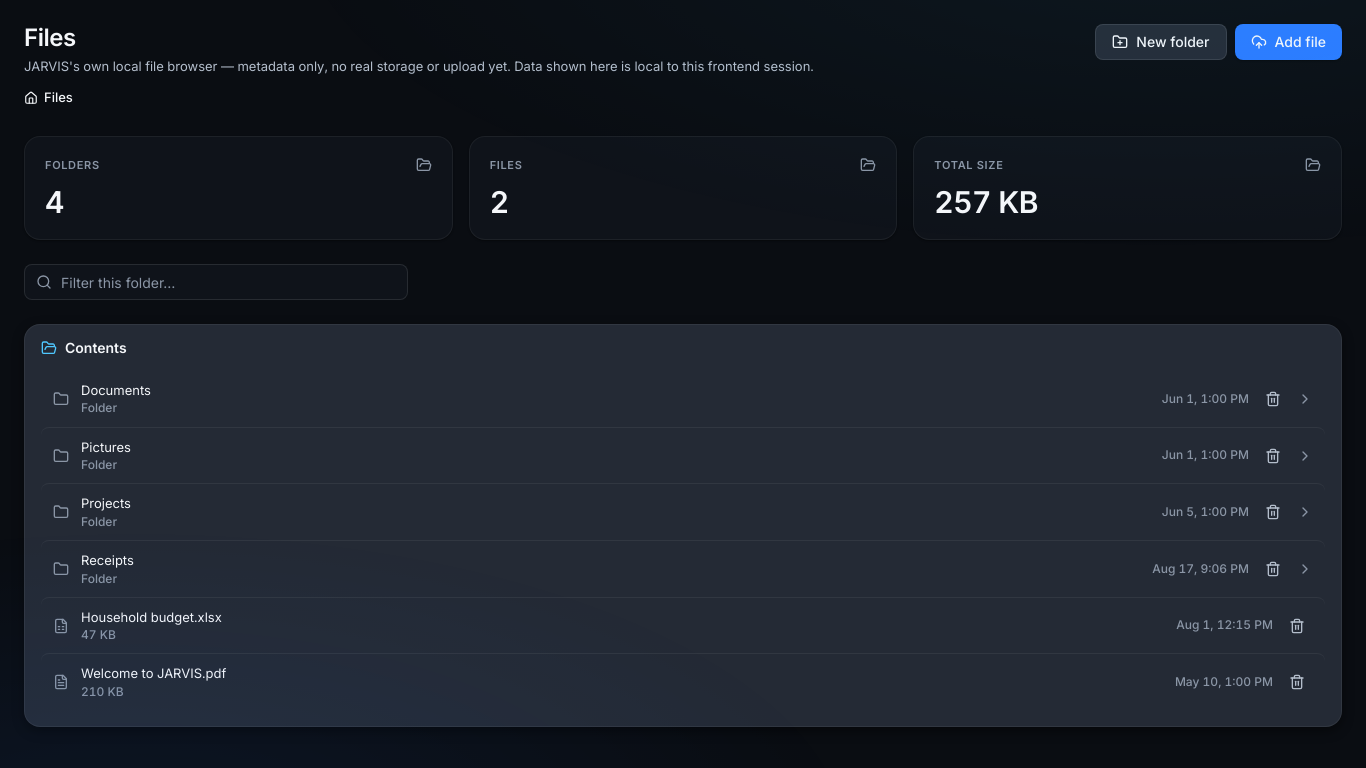
it: FilesPage › requires a name before creating a folder
This screenshot has width=1366, height=768.
Expected: the button with test id "file-row-folder-1" is shown, [41, 371, 1325, 427]
Click the button with test id "files-new-folder": (1161, 42) [1095, 24, 1226, 60]
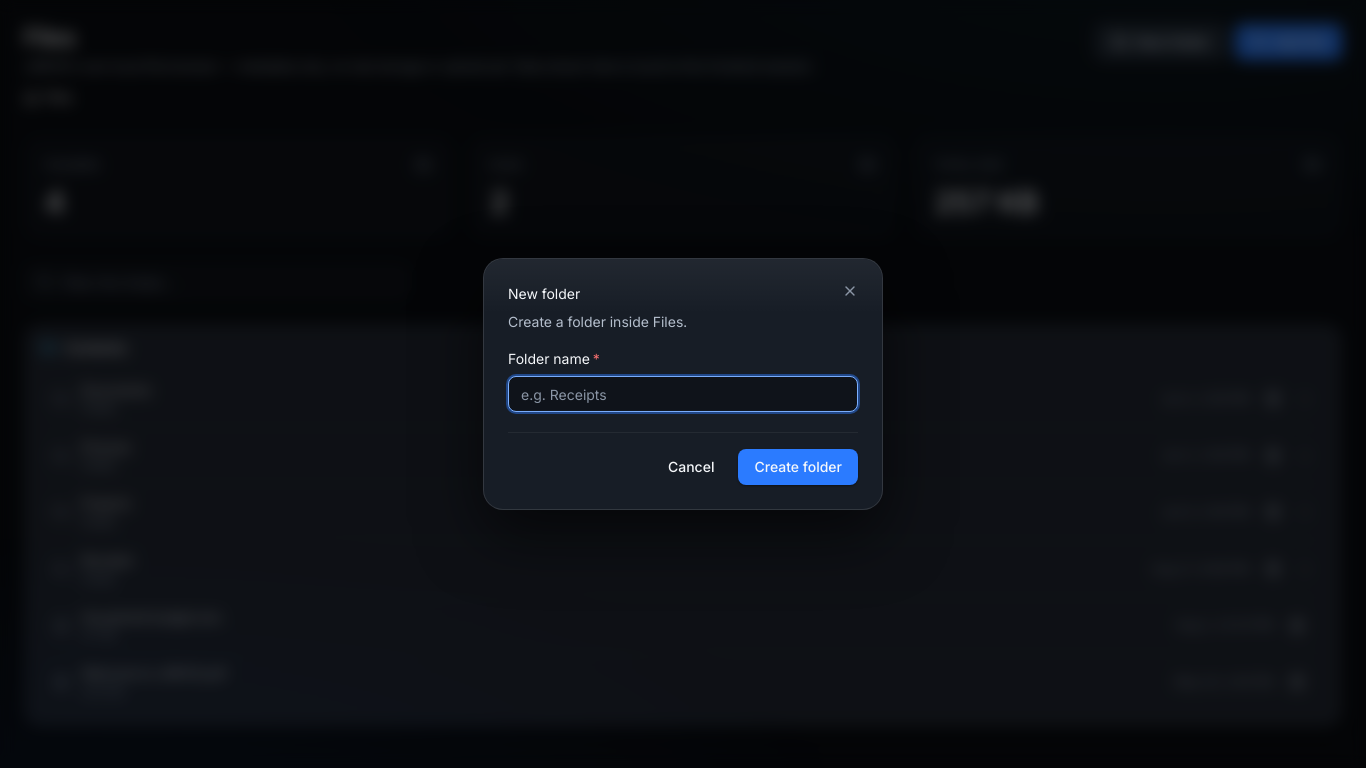
Click the button with test id "new-folder-submit": (798, 467) [738, 449, 858, 485]
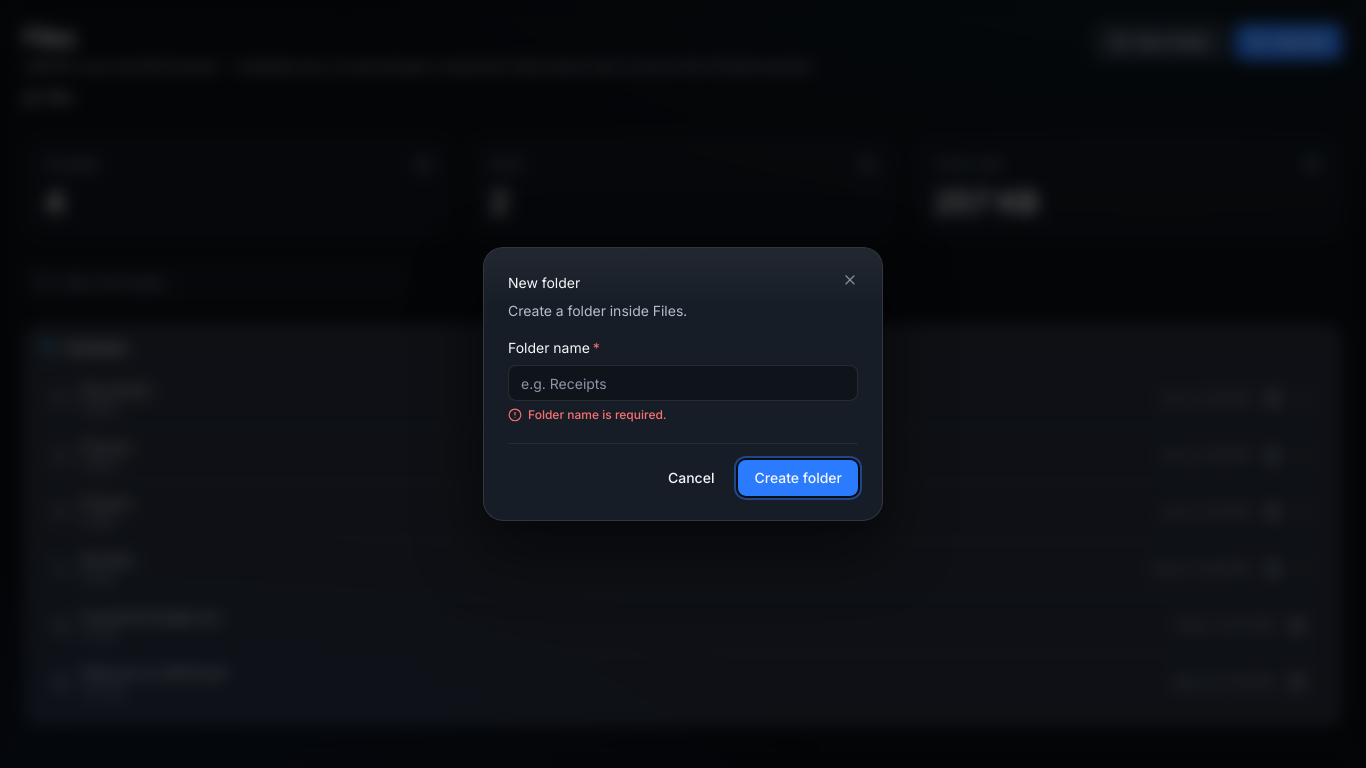
Now the text "Folder name is required." is shown, box [508, 407, 666, 422]
